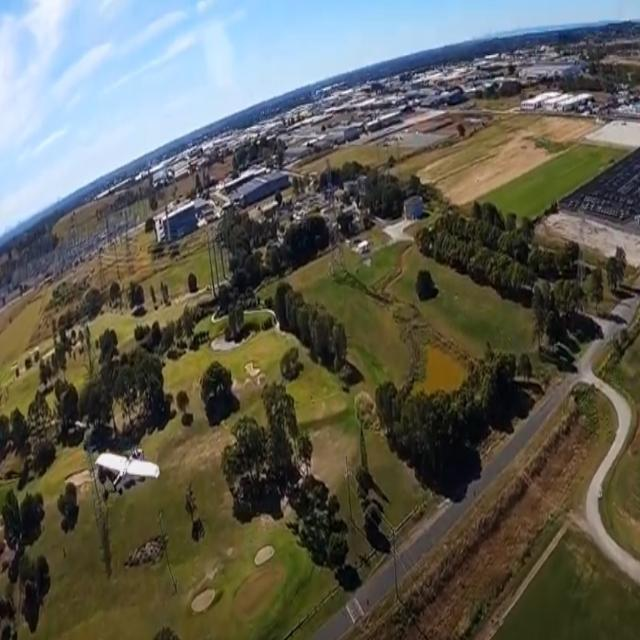iha: (62, 447, 65, 490)
